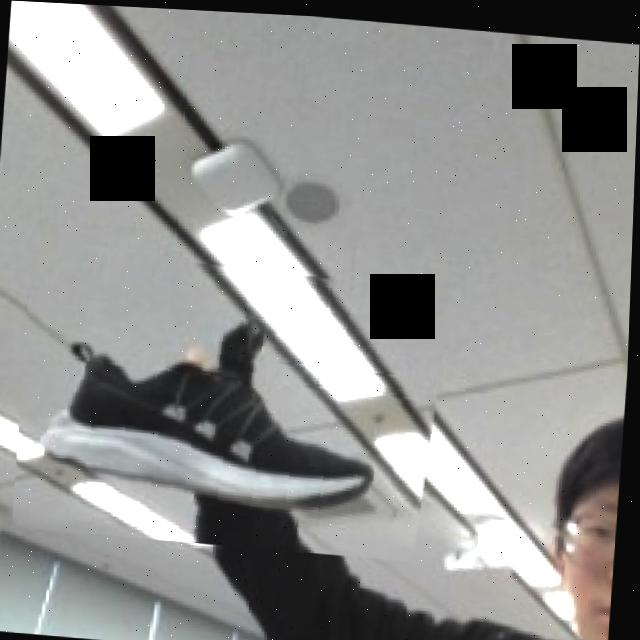shoe: (15, 242, 455, 559)
